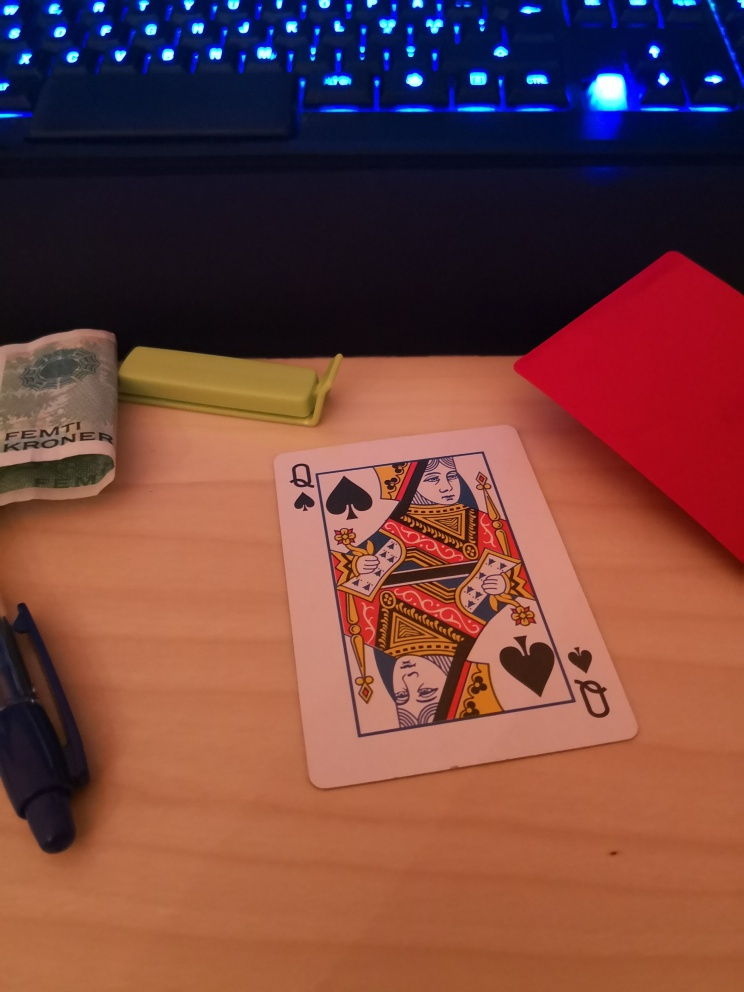queen: (272, 423, 639, 790)
